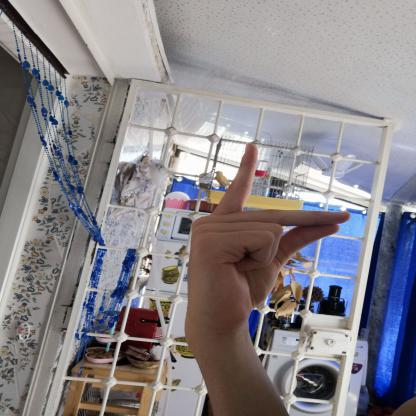TAA: (167, 135, 359, 345)
